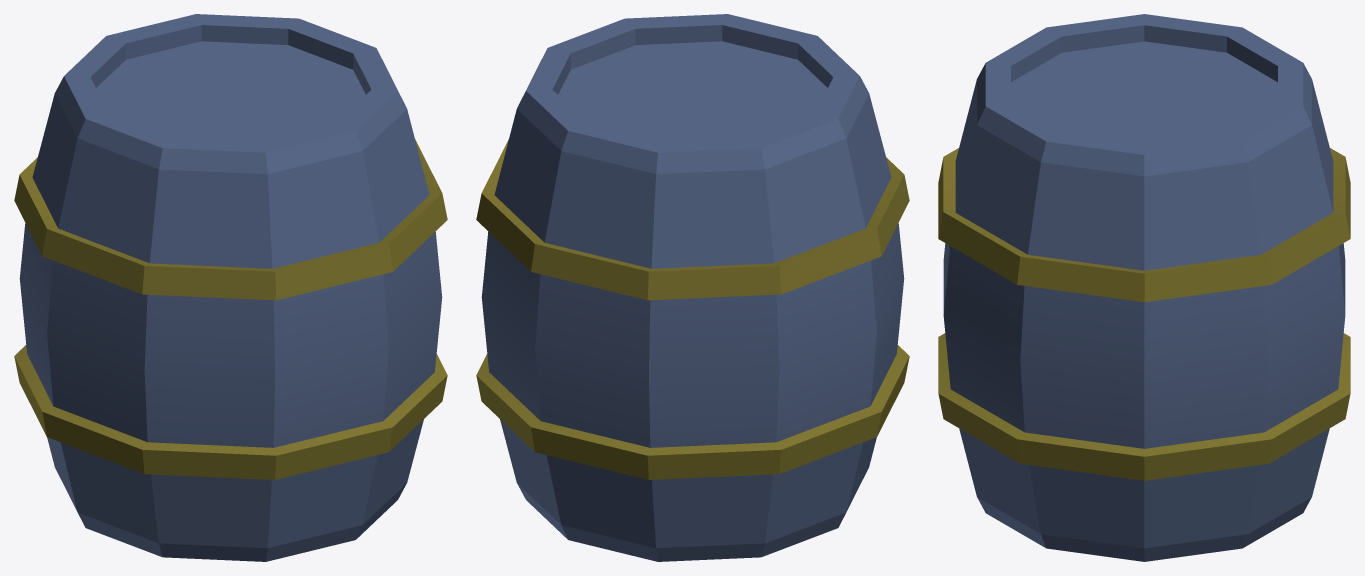
Rendered from Barrel_Blue.fbx.
The picture shows the model from 3 angles, left to right: view 1: azimuth 30°, elevation 25°; view 2: azimuth 150°, elevation 25°; view 3: azimuth 270°, elevation 25°; orthographic projection.
Visible parts, largest first — view 1: Blue_Barrel; view 2: Blue_Barrel; view 3: Blue_Barrel.
Part boxes in pixels (x1,y1,x2,y2): Blue_Barrel: (14, 14, 447, 561); Blue_Barrel: (476, 14, 909, 561); Blue_Barrel: (938, 14, 1350, 561).
Size of the model in its own units: 7.5 by 7.77 by 7.13.
